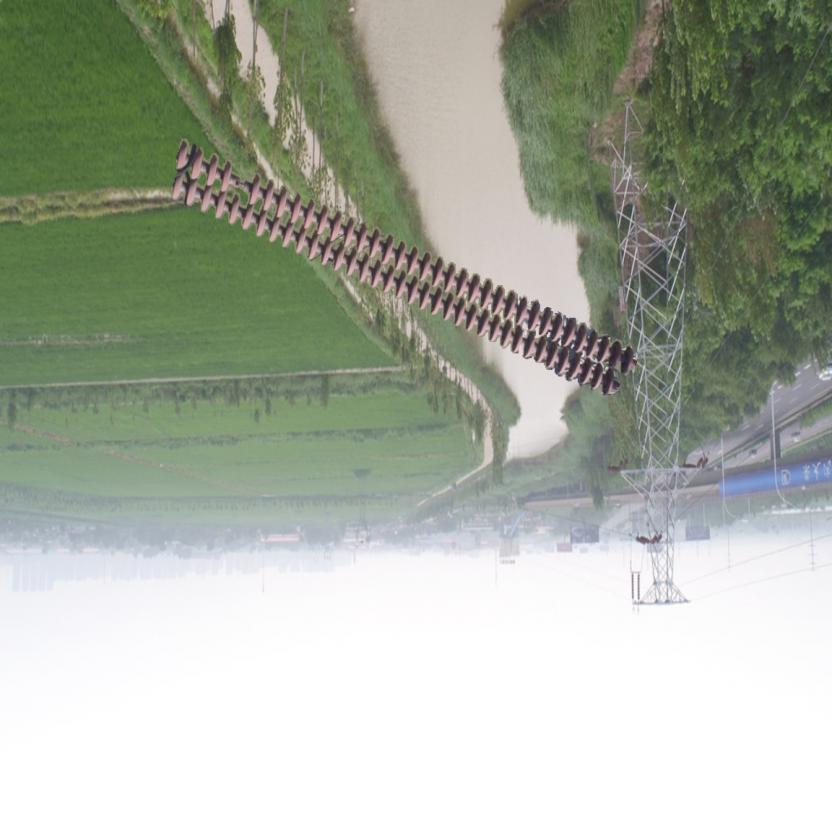defect: (218, 161, 260, 208)
